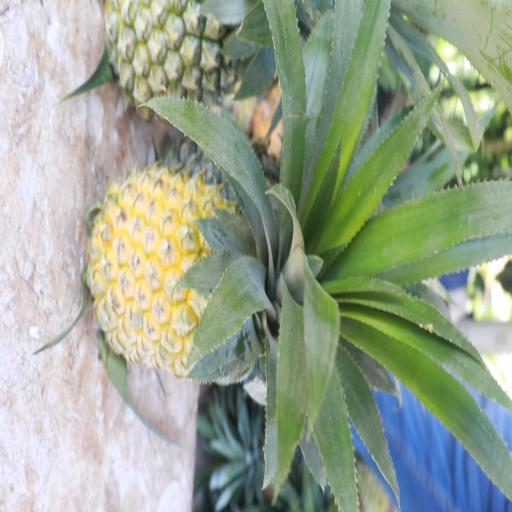------------------------------: (107, 0, 299, 119)
Pineapple - v8 v1: (94, 165, 317, 374)
